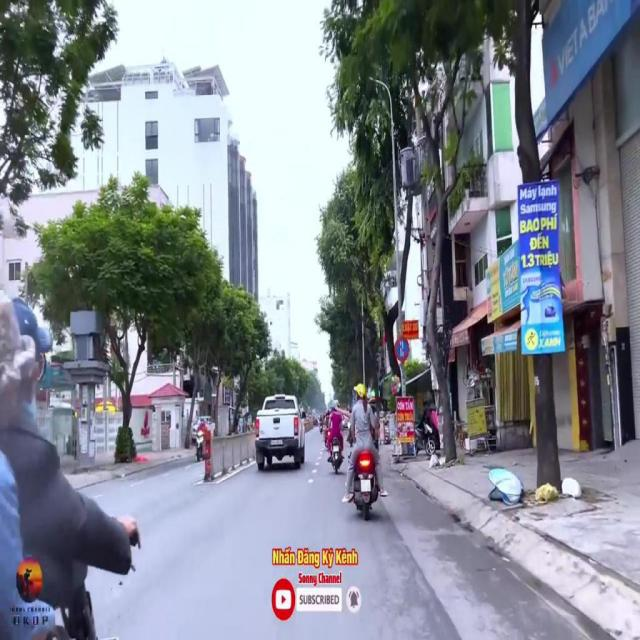cam_do_xe: (394, 336, 409, 364)
